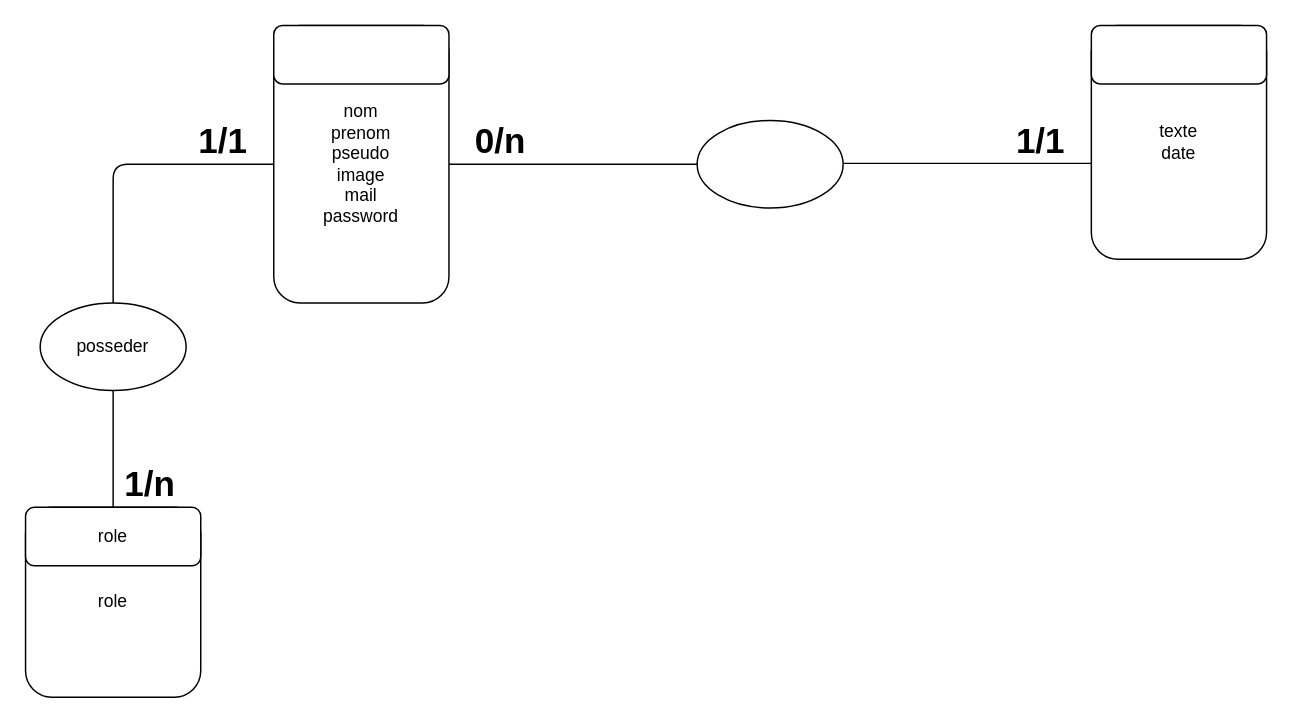
This 1292x723 diagram has some shape labels left out. Here are the shapes that lost their labels. From the top down, the centre of each, then its label:
At pixel 360 54: "users".
At pixel 1178 54: "messages".
At pixel 769 163: "ecrire".
